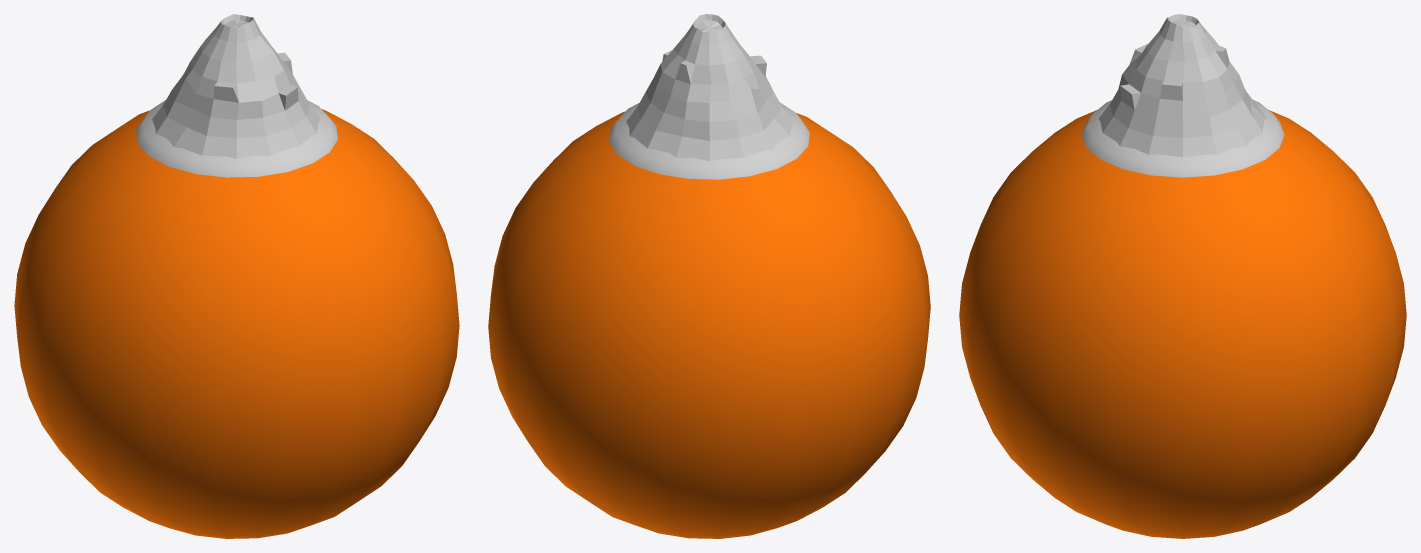
Rendered from wakusei_02.fbx.
3 views of the same model, side by side, from view 1: azimuth 30°, elevation 25°; view 2: azimuth 150°, elevation 25°; view 3: azimuth 270°, elevation 25° (orthographic).
Visible parts, largest first — view 1: polySurface1, pCylinder2, polySurface2; view 2: polySurface1, pCylinder2, polySurface2; view 3: polySurface1, pCylinder2, polySurface2.
Boxes of the visible parts, x1,y1,x2,y2 form: polySurface1: (14, 109, 459, 538); pCylinder2: (152, 14, 320, 158); polySurface2: (136, 100, 337, 177); polySurface1: (488, 111, 930, 538); pCylinder2: (626, 14, 793, 161); polySurface2: (609, 102, 809, 179); polySurface1: (959, 110, 1406, 538); pCylinder2: (1098, 14, 1266, 157); polySurface2: (1081, 100, 1284, 177).
Size of the model in its own units: 12.49 by 15.42 by 12.49.
